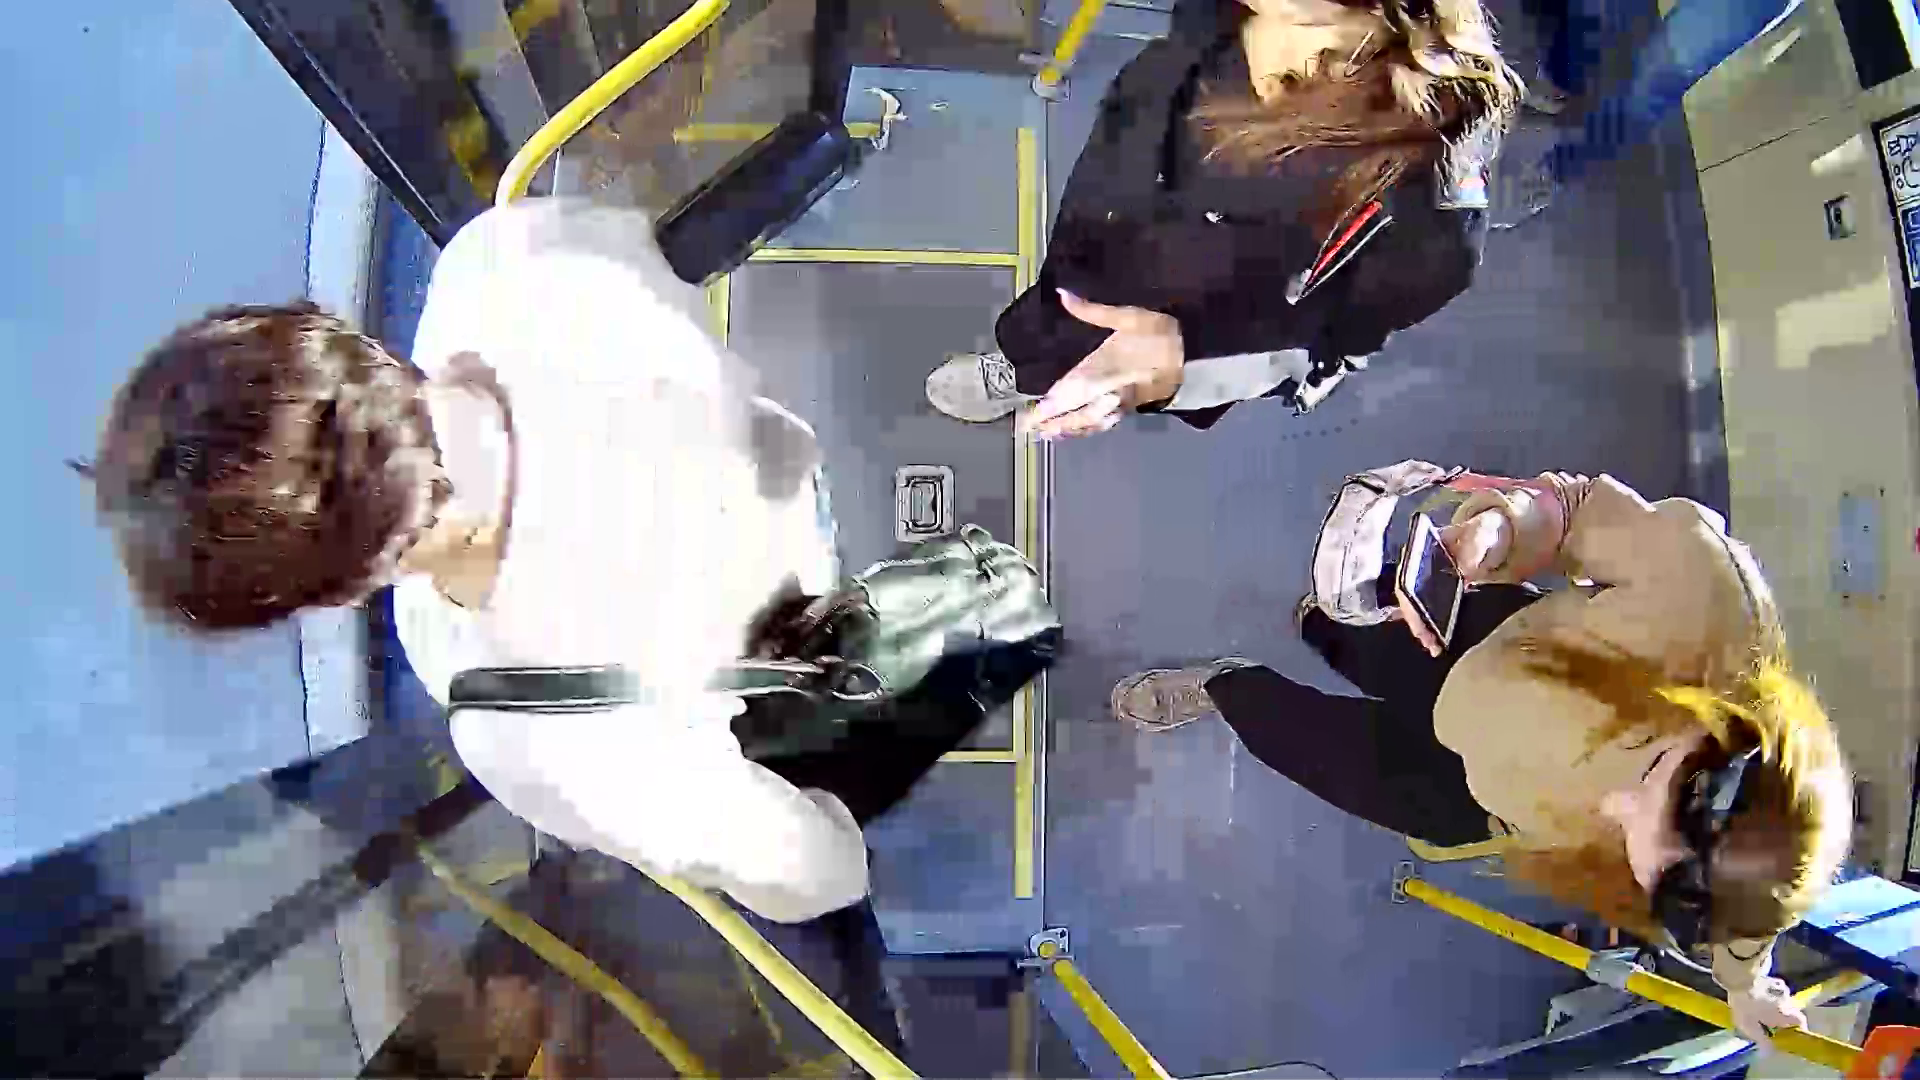person: (113, 137, 1014, 940), (1205, 436, 1877, 981)
